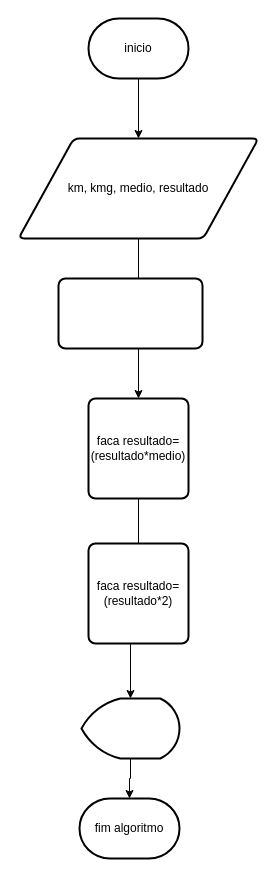
The diagram is 276 pixels wide and 876 high, and some of its shapes have lost their labels. Each missing label, with the centre of its shape:
"faca resultado=(km/kmg)" goes at point 130,313.
"mostre o resultado" goes at point 130,728.
